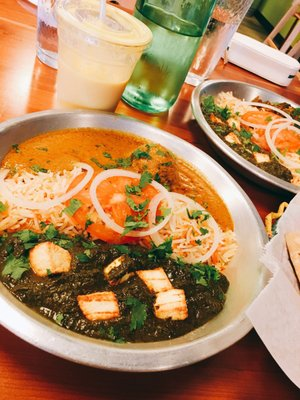pizza: (112, 0, 222, 127), (53, 0, 152, 112)
sushi: (1, 130, 271, 374), (191, 80, 300, 196), (265, 118, 300, 183)
